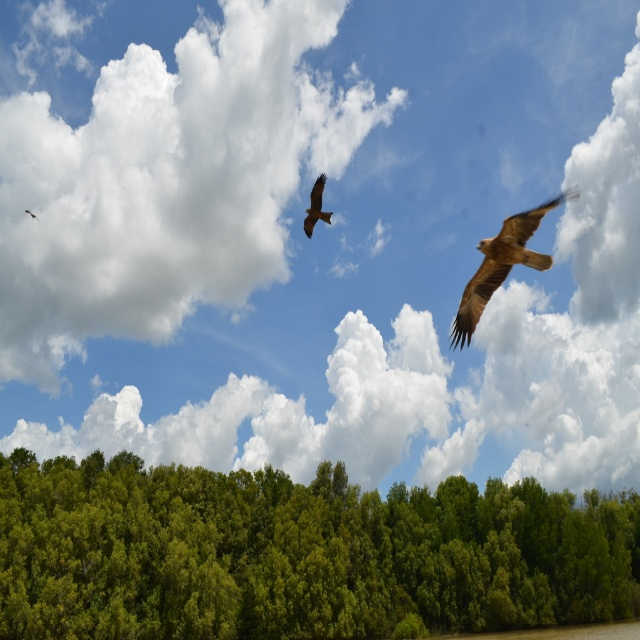Eagle: (444, 190, 576, 352), (302, 172, 337, 238)
